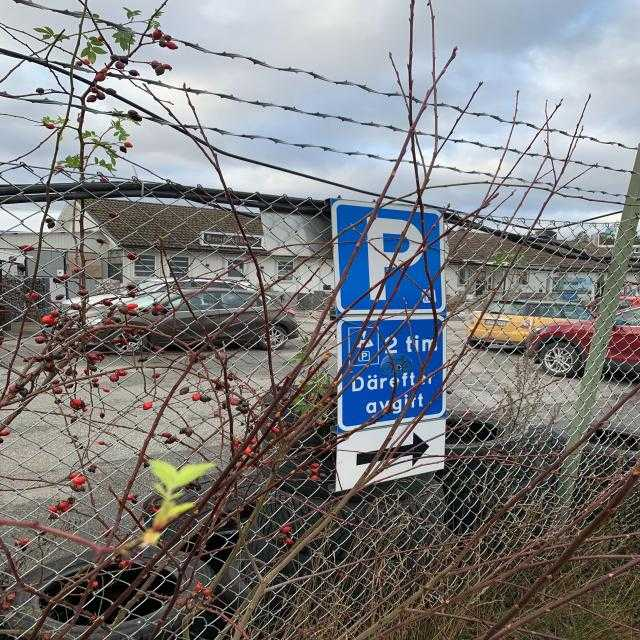psign: (330, 200, 445, 318)
